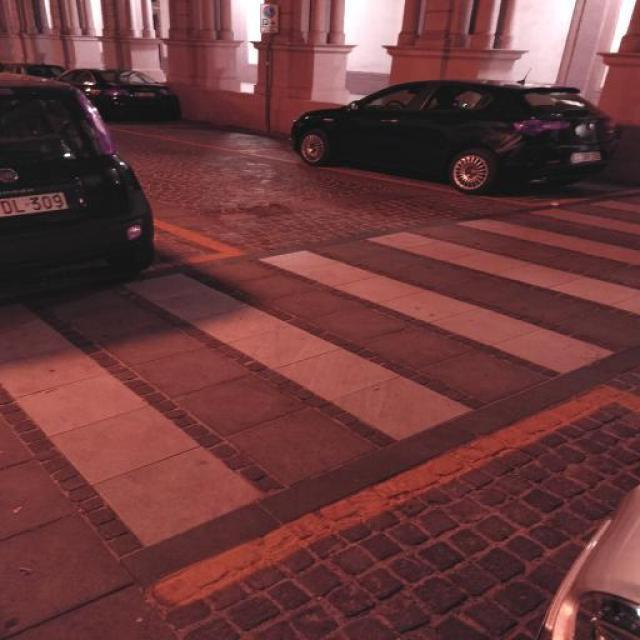crosswalk: (0, 190, 640, 550)
